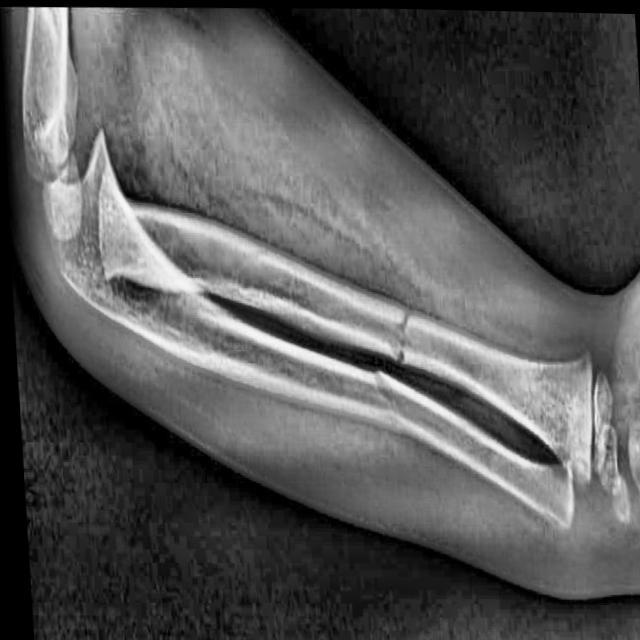fracture: (367, 363, 394, 428), (391, 309, 412, 359)
